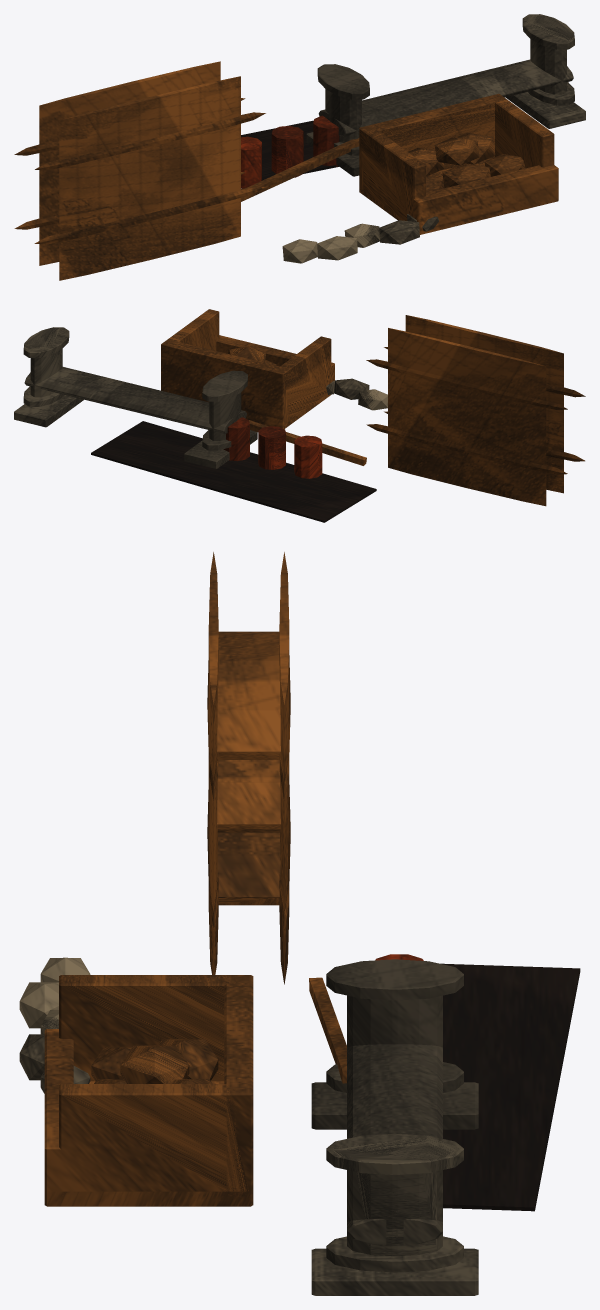
Rendered from south-approach-kit.glb.
3 views of the same model, one above another, from view 1: azimuth 30°, elevation 25°; view 2: azimuth 150°, elevation 25°; view 3: azimuth 270°, elevation 25° (orthographic). The views are drawn at different scales.
Visible parts, largest first — view 1: south-approach-kit; view 2: south-approach-kit; view 3: south-approach-kit.
Boxes of the visible parts, left/top/right/bottom form: south-approach-kit: left=14, top=14, right=585, bottom=280; south-approach-kit: left=14, top=309, right=585, bottom=522; south-approach-kit: left=19, top=552, right=580, bottom=1295.
Bounding box in the file's own units: 14.1 × 3.7 × 6.72.
Materials: 1 (1 with a texture image).
